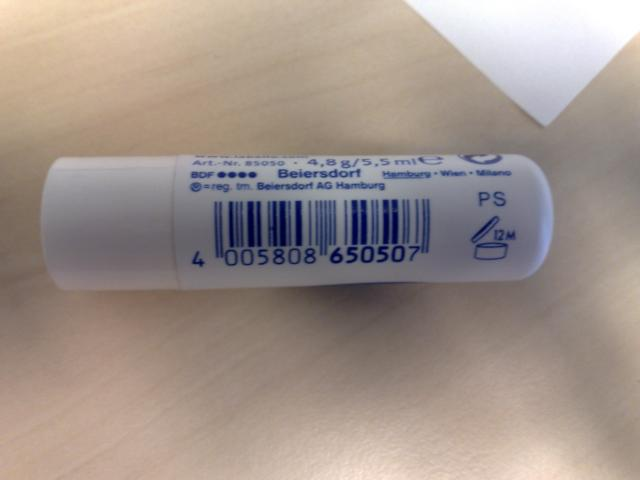Barkod: (212, 198, 433, 246)
